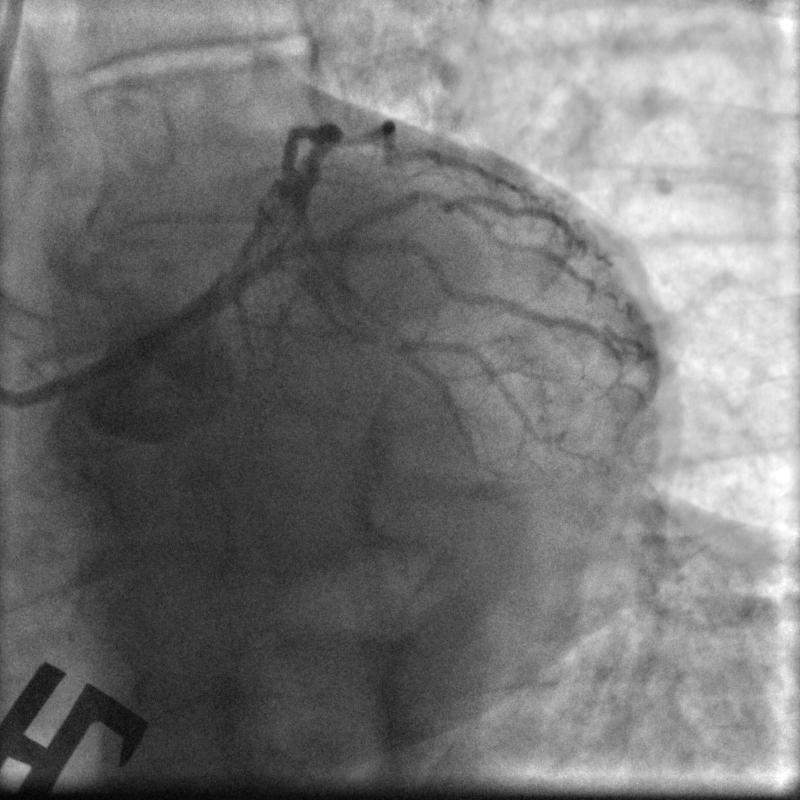Stenosis: (408, 183, 458, 211)
